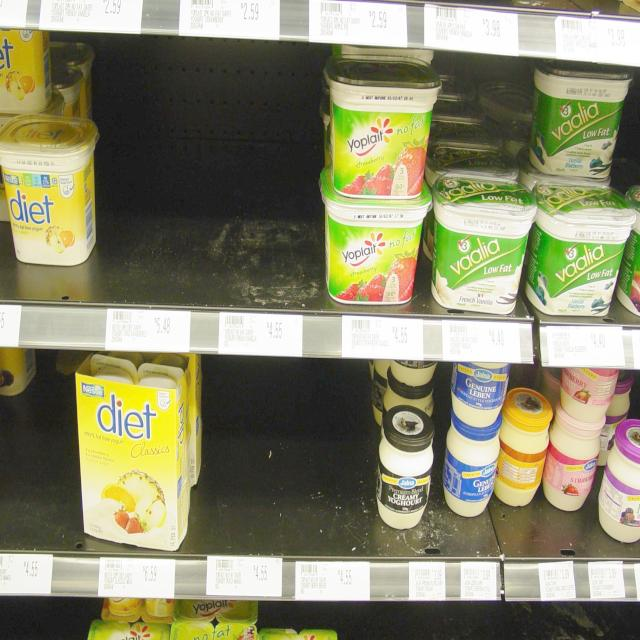empty_space: (107, 62, 305, 286), (216, 383, 362, 541), (3, 373, 71, 539)
